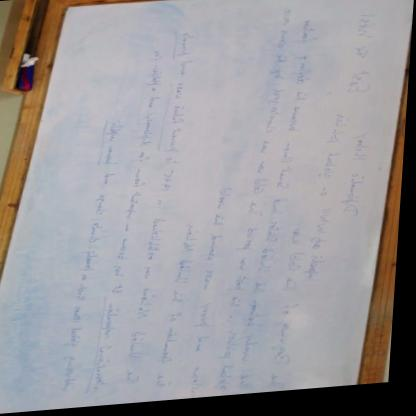Handwritten text: (214, 4, 302, 399), (239, 15, 327, 399), (91, 44, 174, 399), (60, 116, 131, 400), (126, 195, 180, 393), (189, 179, 247, 360), (155, 218, 211, 398), (269, 230, 319, 399), (308, 114, 352, 290), (157, 27, 205, 171), (342, 135, 377, 224), (347, 71, 380, 101), (351, 17, 385, 45)
Whiteboard: (0, 0, 414, 415)
